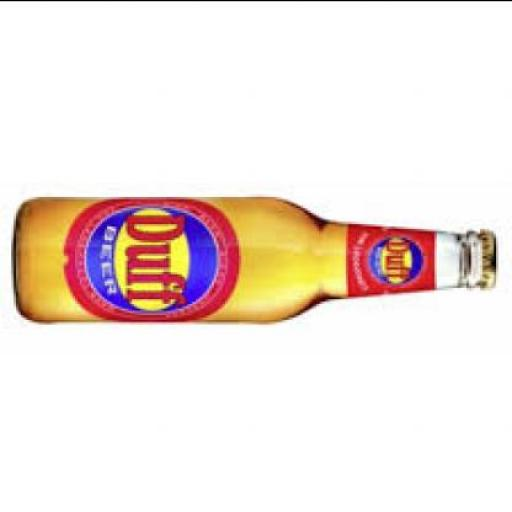glass: (16, 191, 485, 321)
metal: (485, 226, 501, 284)
